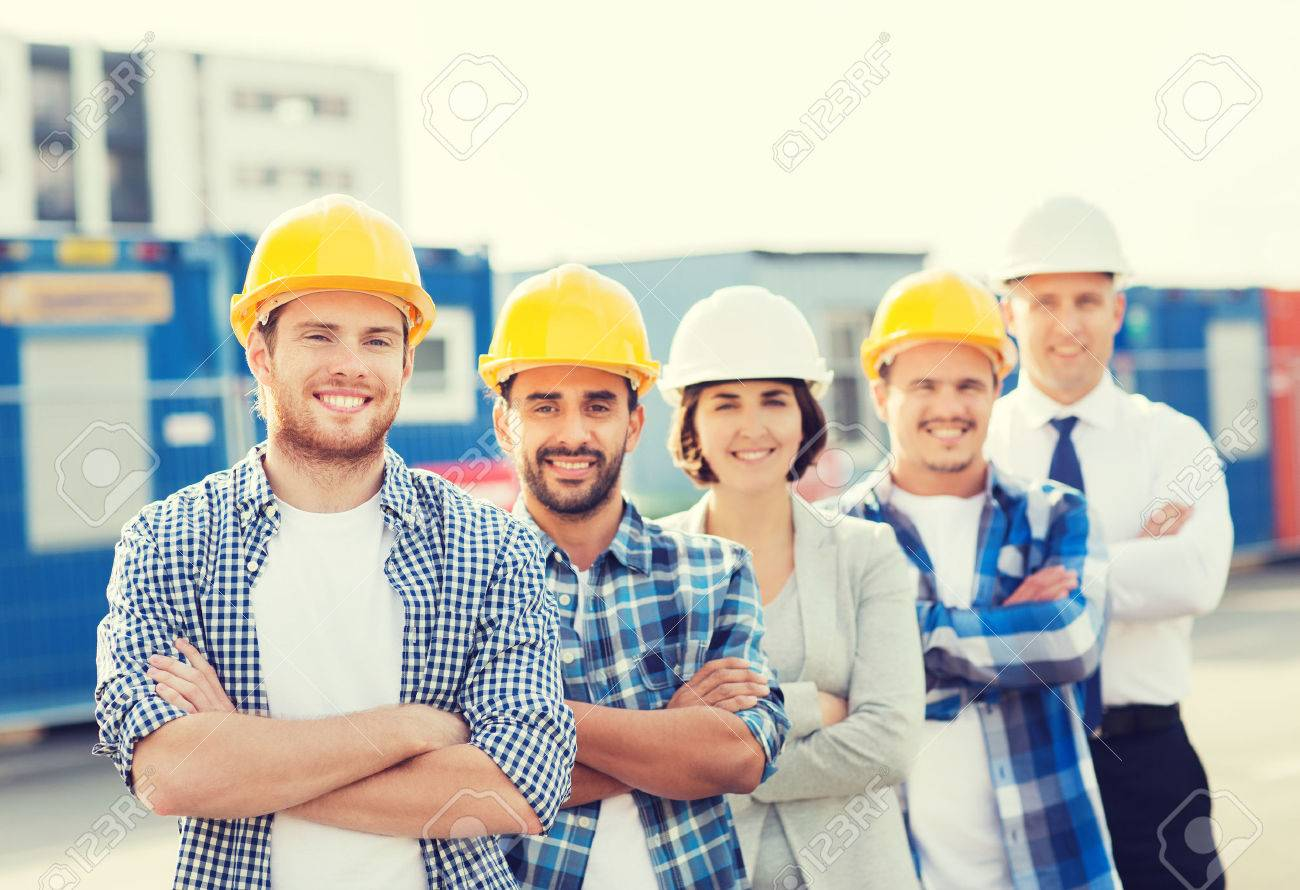casco: (226, 191, 439, 353), (477, 262, 664, 400), (656, 282, 837, 405), (858, 264, 1019, 384), (984, 188, 1138, 298)
